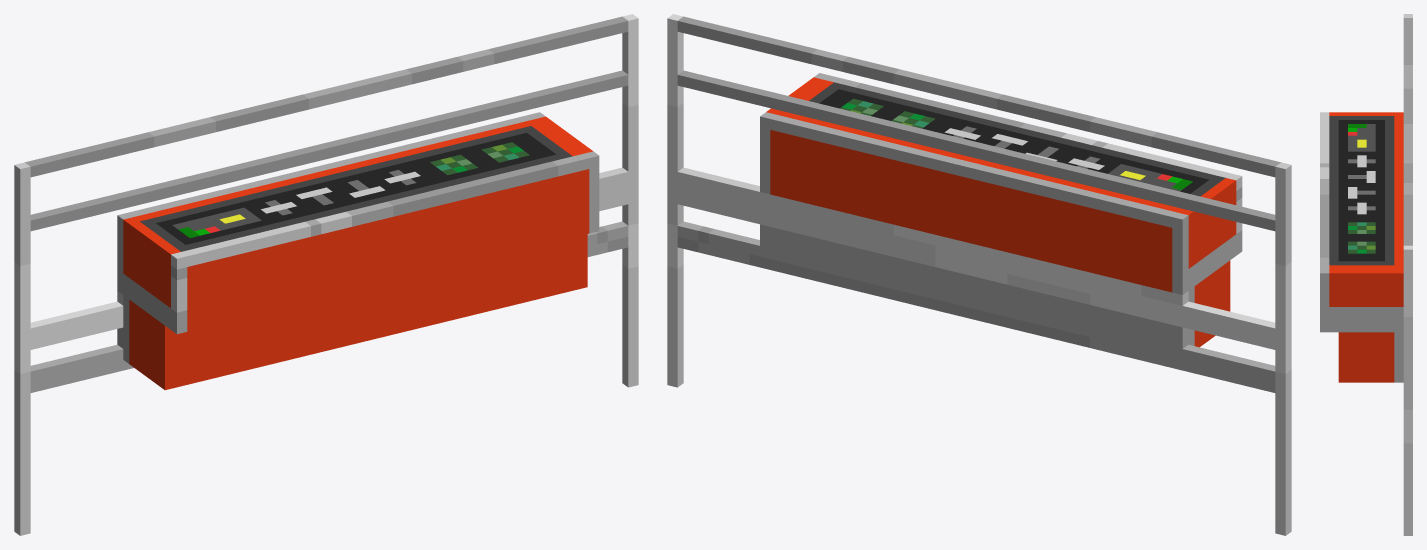
The model's file is Engineering Consul.obj.
3 renders of one model, left to right at view 1: azimuth 30°, elevation 25°; view 2: azimuth 150°, elevation 25°; view 3: azimuth 270°, elevation 25°, orthographic. The views are drawn at different scales.
Size of the model in its own units: 60 by 34 by 10.
Materials: 1 (1 with a texture image).
